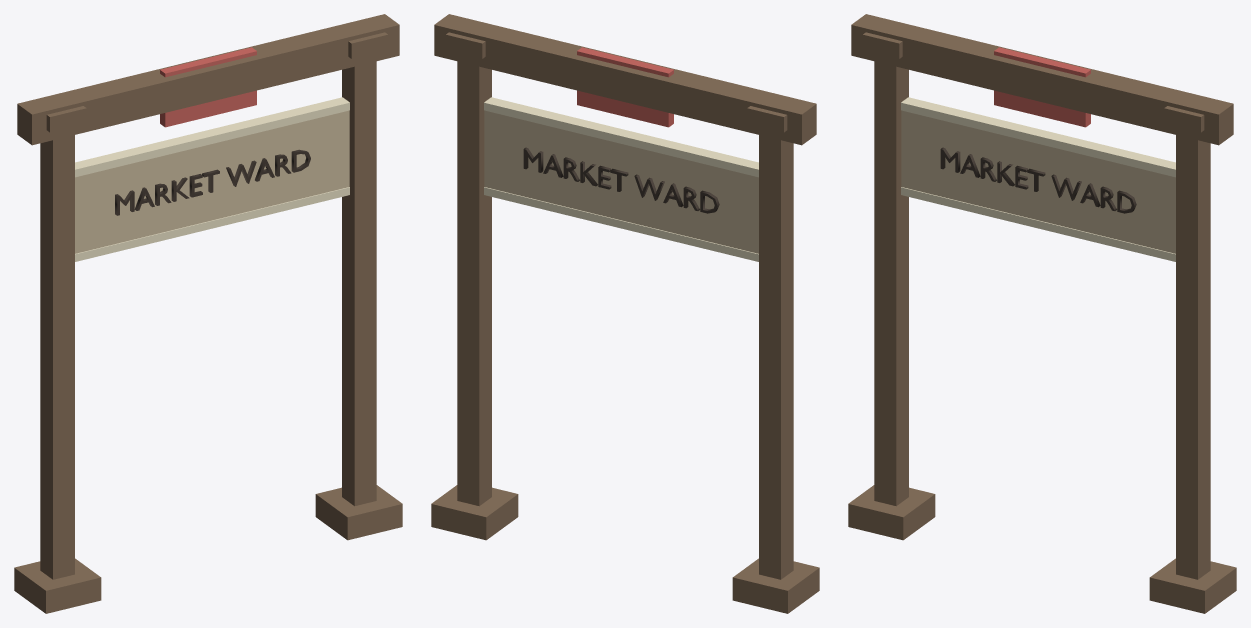
File: prop_ward_market.glb
3 views of the same model, side by side, from view 1: azimuth 30°, elevation 25°; view 2: azimuth 150°, elevation 25°; view 3: azimuth 330°, elevation 25° (orthographic).
Visible parts, largest first — view 1: prop_ward_sign; view 2: prop_ward_sign; view 3: prop_ward_sign.
Boxes of the visible parts, x1,y1,x2,y2 form: prop_ward_sign: (14, 14, 402, 613); prop_ward_sign: (431, 14, 819, 613); prop_ward_sign: (848, 14, 1236, 613).
Bounding box in the file's own units: 2 × 2.59 × 0.3.
